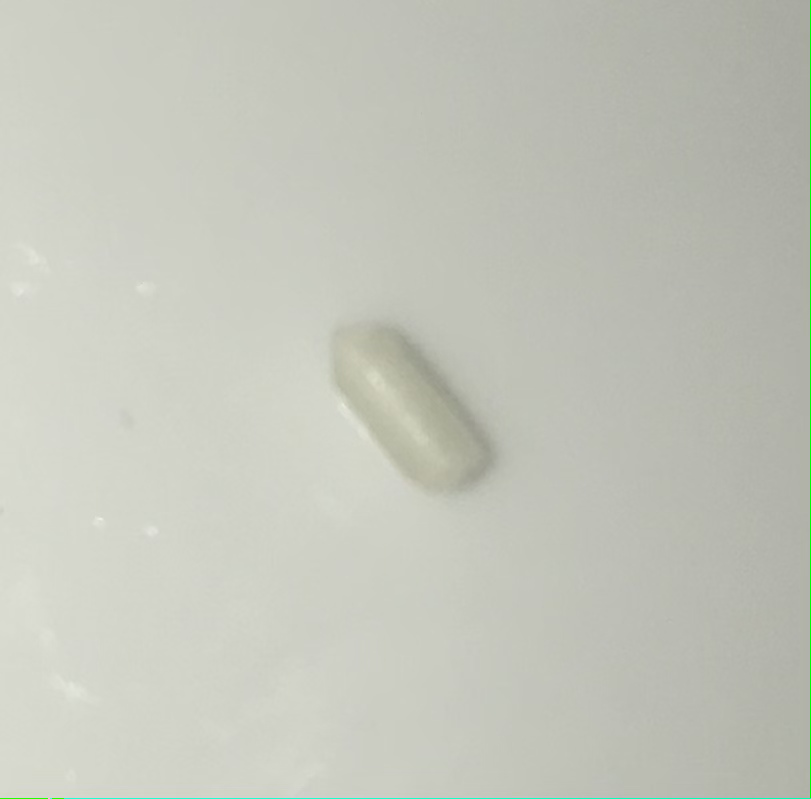Gao Tam: (315, 299, 498, 517)
